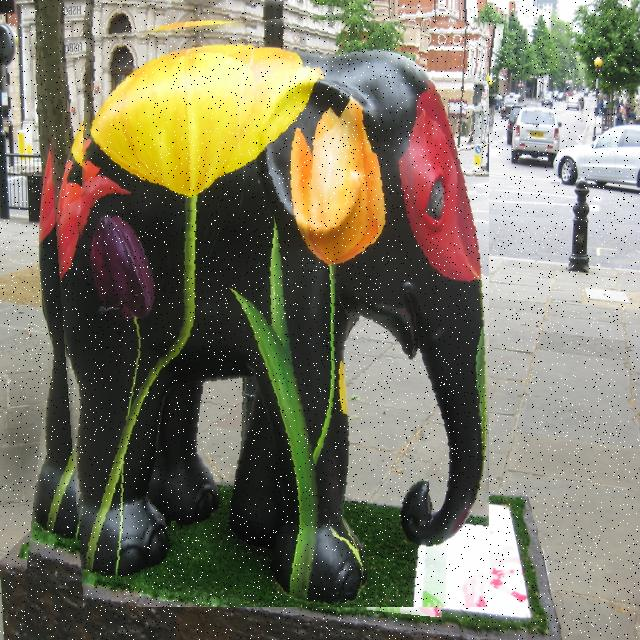elephant: (42, 0, 489, 607)
